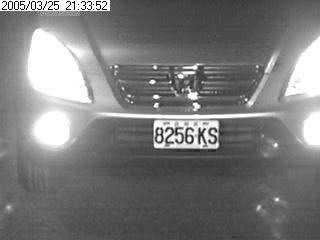plate: (151, 118, 221, 152)
